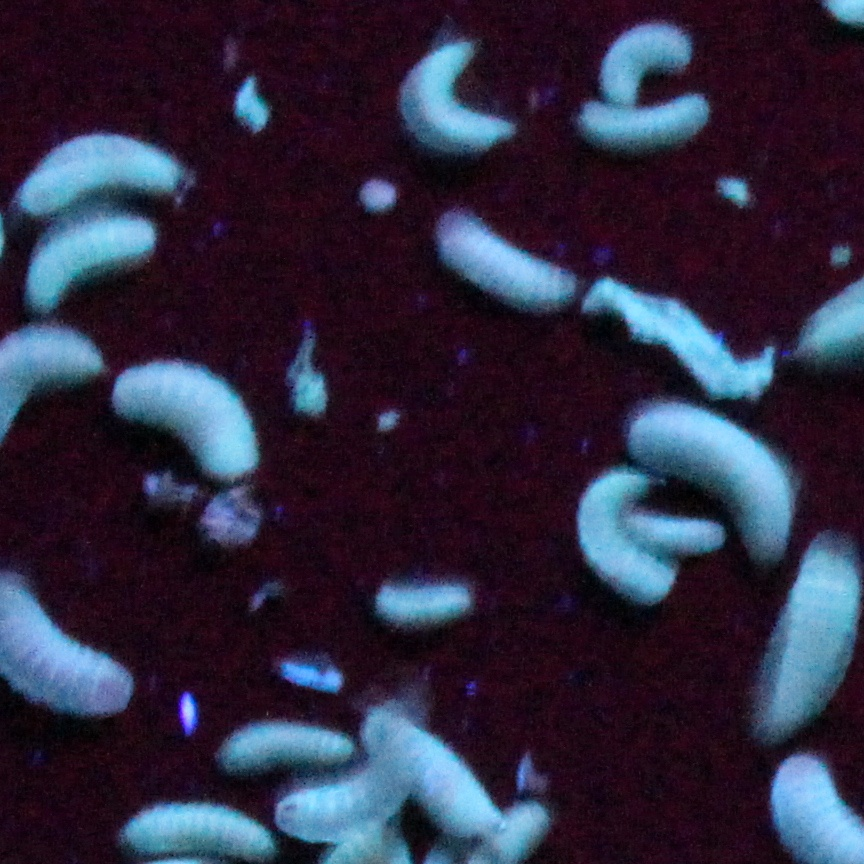larve: (638, 394, 798, 558), (111, 360, 269, 489), (363, 715, 500, 831), (11, 133, 192, 217), (438, 206, 581, 310), (394, 37, 517, 156), (33, 212, 156, 317), (575, 467, 661, 610), (119, 804, 277, 862), (598, 23, 692, 106), (217, 721, 354, 769), (581, 102, 708, 146), (615, 510, 731, 554), (381, 585, 473, 619)
